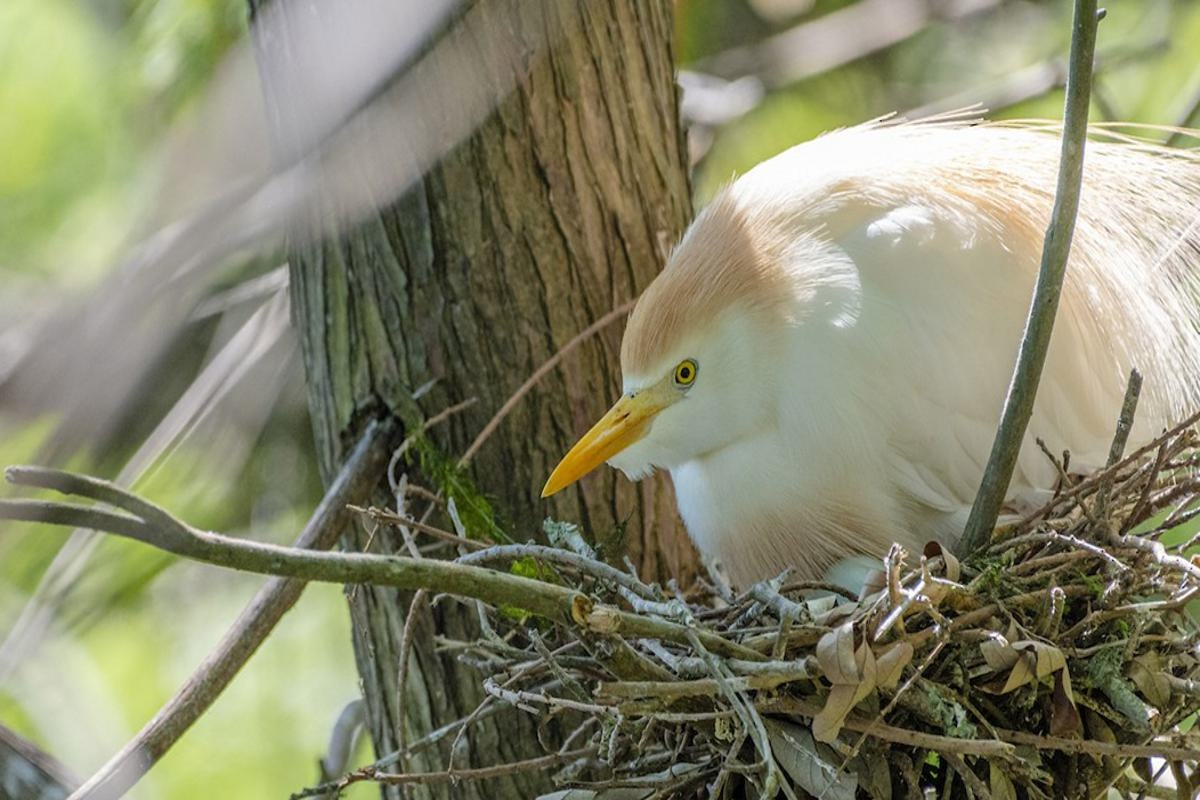egret: (545, 110, 1200, 616)
